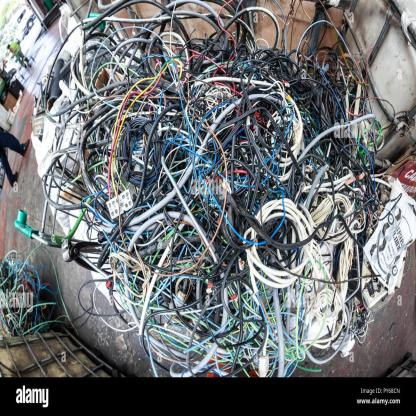wires: (0, 0, 416, 378)
